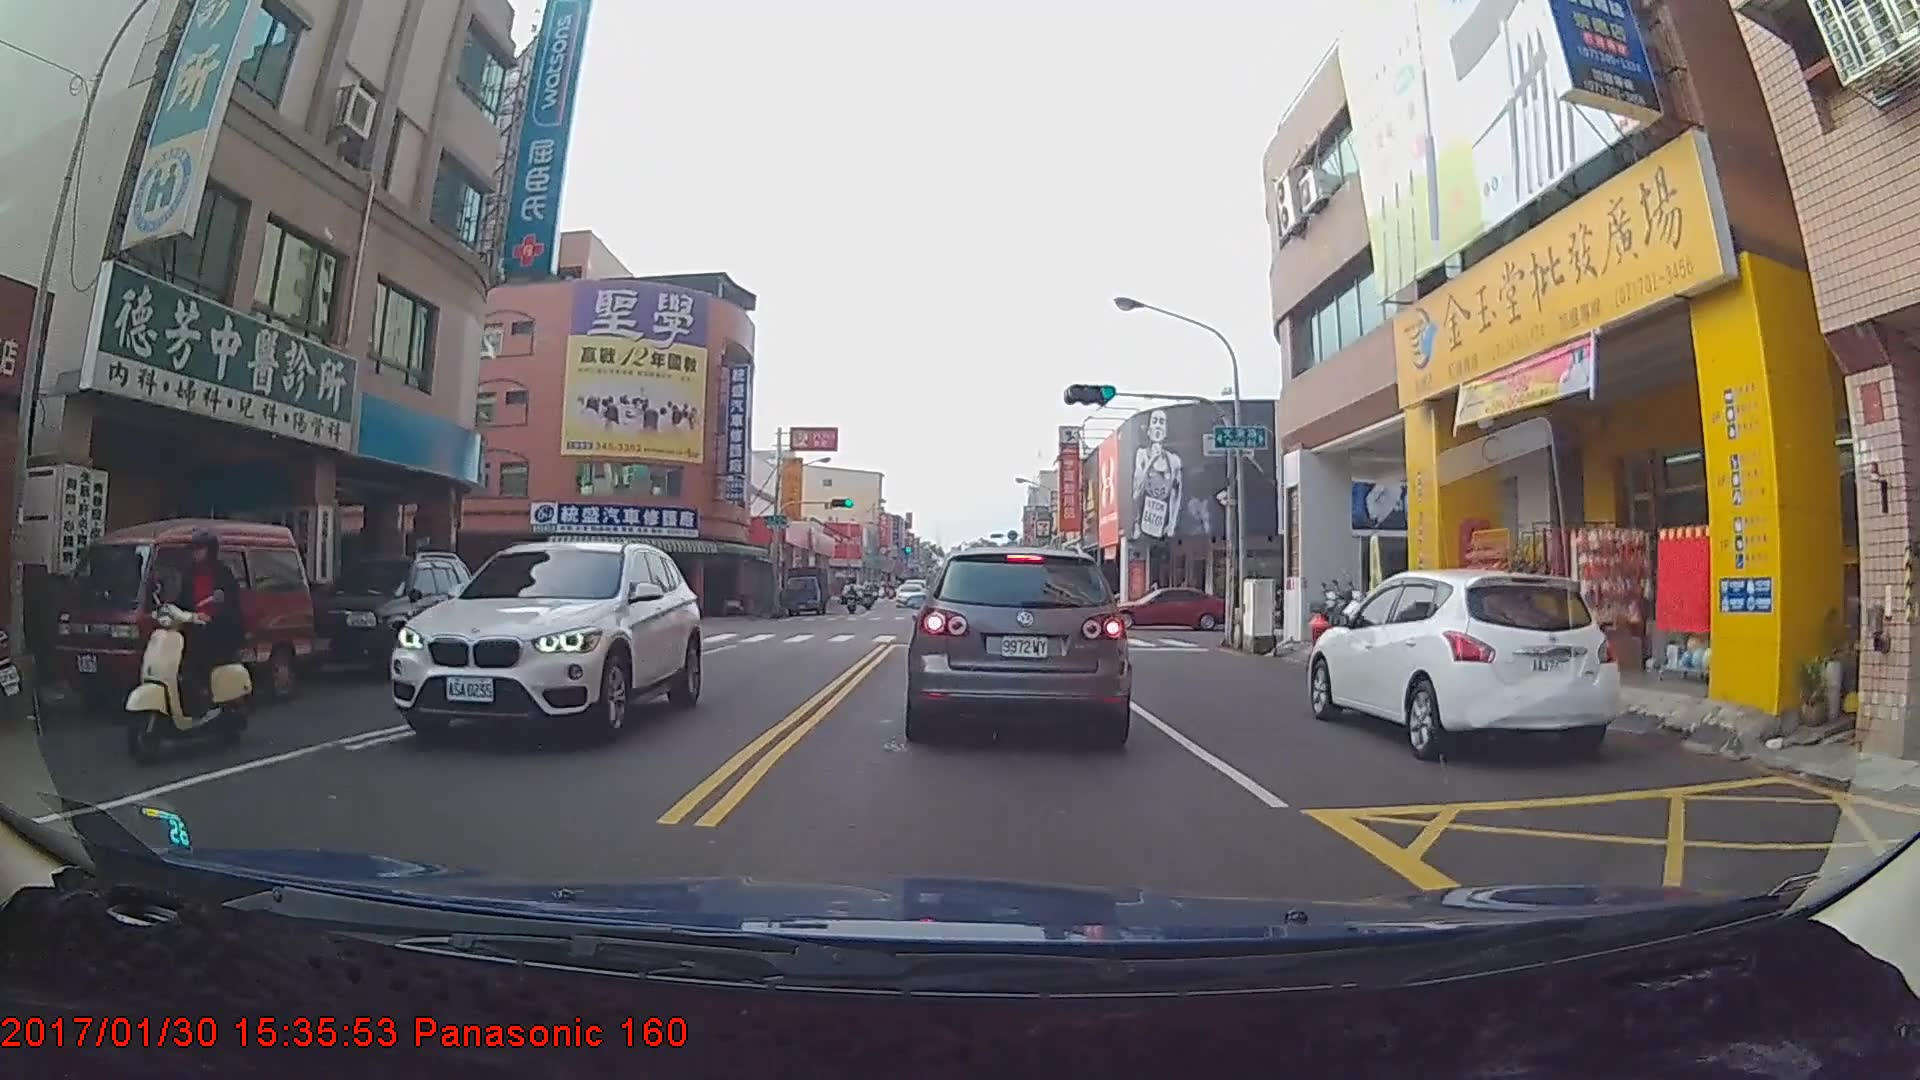rider: (118, 531, 262, 759), (841, 577, 862, 611), (847, 576, 867, 605)
vehicle: (385, 537, 705, 740), (1307, 568, 1620, 761), (55, 520, 320, 710), (905, 543, 1127, 744), (281, 553, 469, 682), (1104, 583, 1226, 631), (779, 562, 831, 613), (894, 580, 926, 606)
